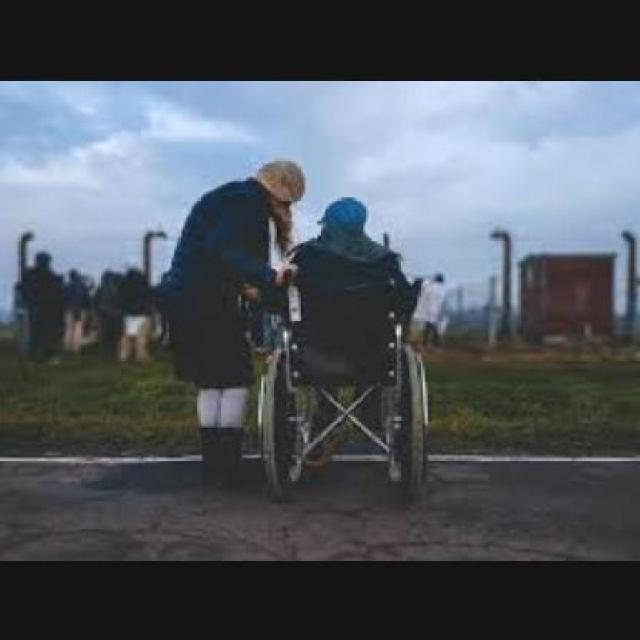wheelchairs: (259, 260, 436, 498)
